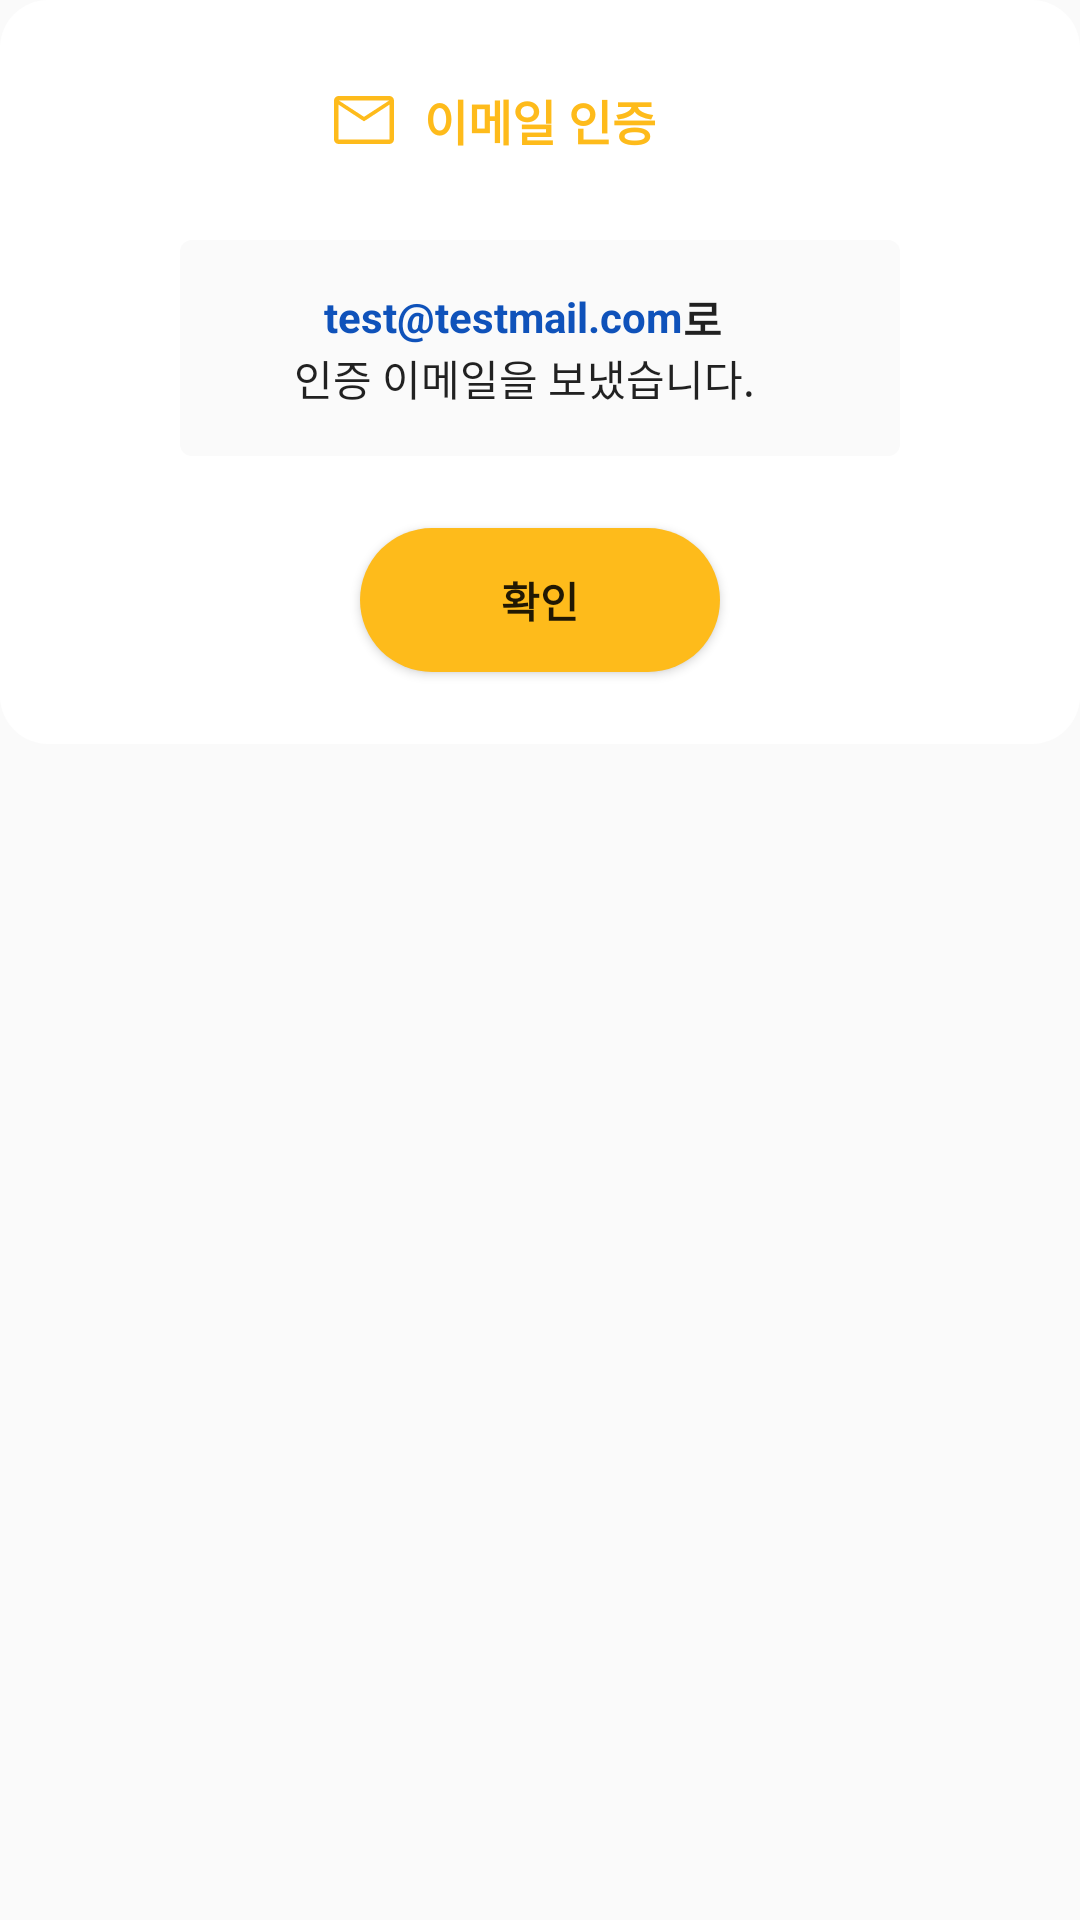

Where to tap for icons on this 1080 x 1920 app screen, as (x,y):
email: (364,120)
